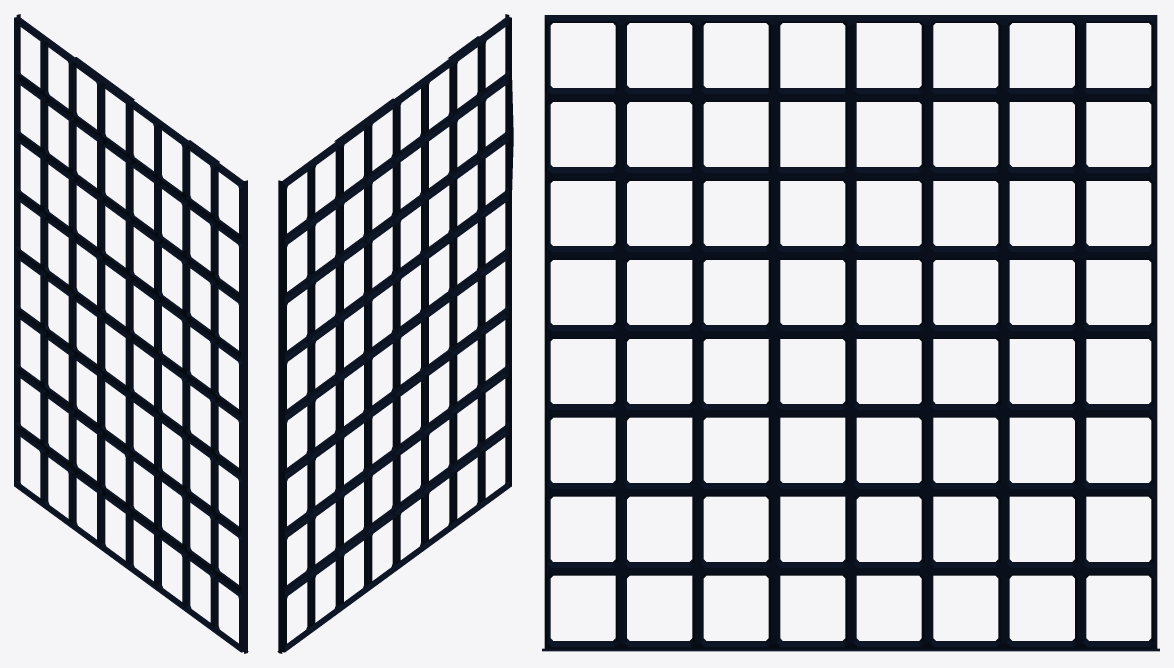
File: PPSquareMesh.fbx
3 renders of one model, left to right at view 1: azimuth 30°, elevation 25°; view 2: azimuth 150°, elevation 25°; view 3: azimuth 270°, elevation 25°, orthographic. The views are drawn at different scales.
Visible parts, largest first — view 1: Plane; view 2: Plane; view 3: Plane.
Boxes of the visible parts, x1=… form: Plane: x1=14, y1=14, x2=248, y2=653; Plane: x1=277, y1=14, x2=513, y2=653; Plane: x1=542, y1=15, x2=1159, y2=651.
Size of the model in its own units: 19.36 by 1033 by 907.
